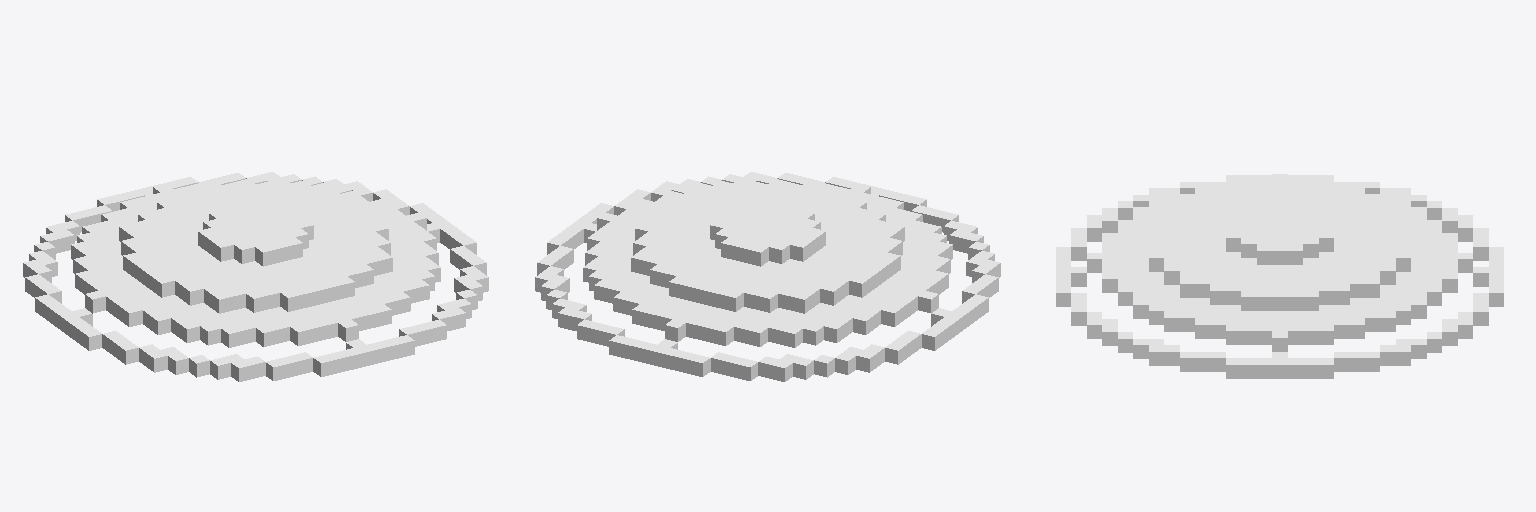
The model's file is spotlight-0.obj.
3 renders of one model, left to right at view 1: azimuth 30°, elevation 25°; view 2: azimuth 150°, elevation 25°; view 3: azimuth 270°, elevation 25°, orthographic.
Visible parts, largest first — view 1: spotlight-0; view 2: spotlight-0; view 3: spotlight-0.
Boxes of the visible parts, <box> form: spotlight-0: <box>23,172,488,381</box>; spotlight-0: <box>535,172,1000,381</box>; spotlight-0: <box>1056,174,1503,378</box>.
Bounding box in the file's own units: 29 × 4 × 29.